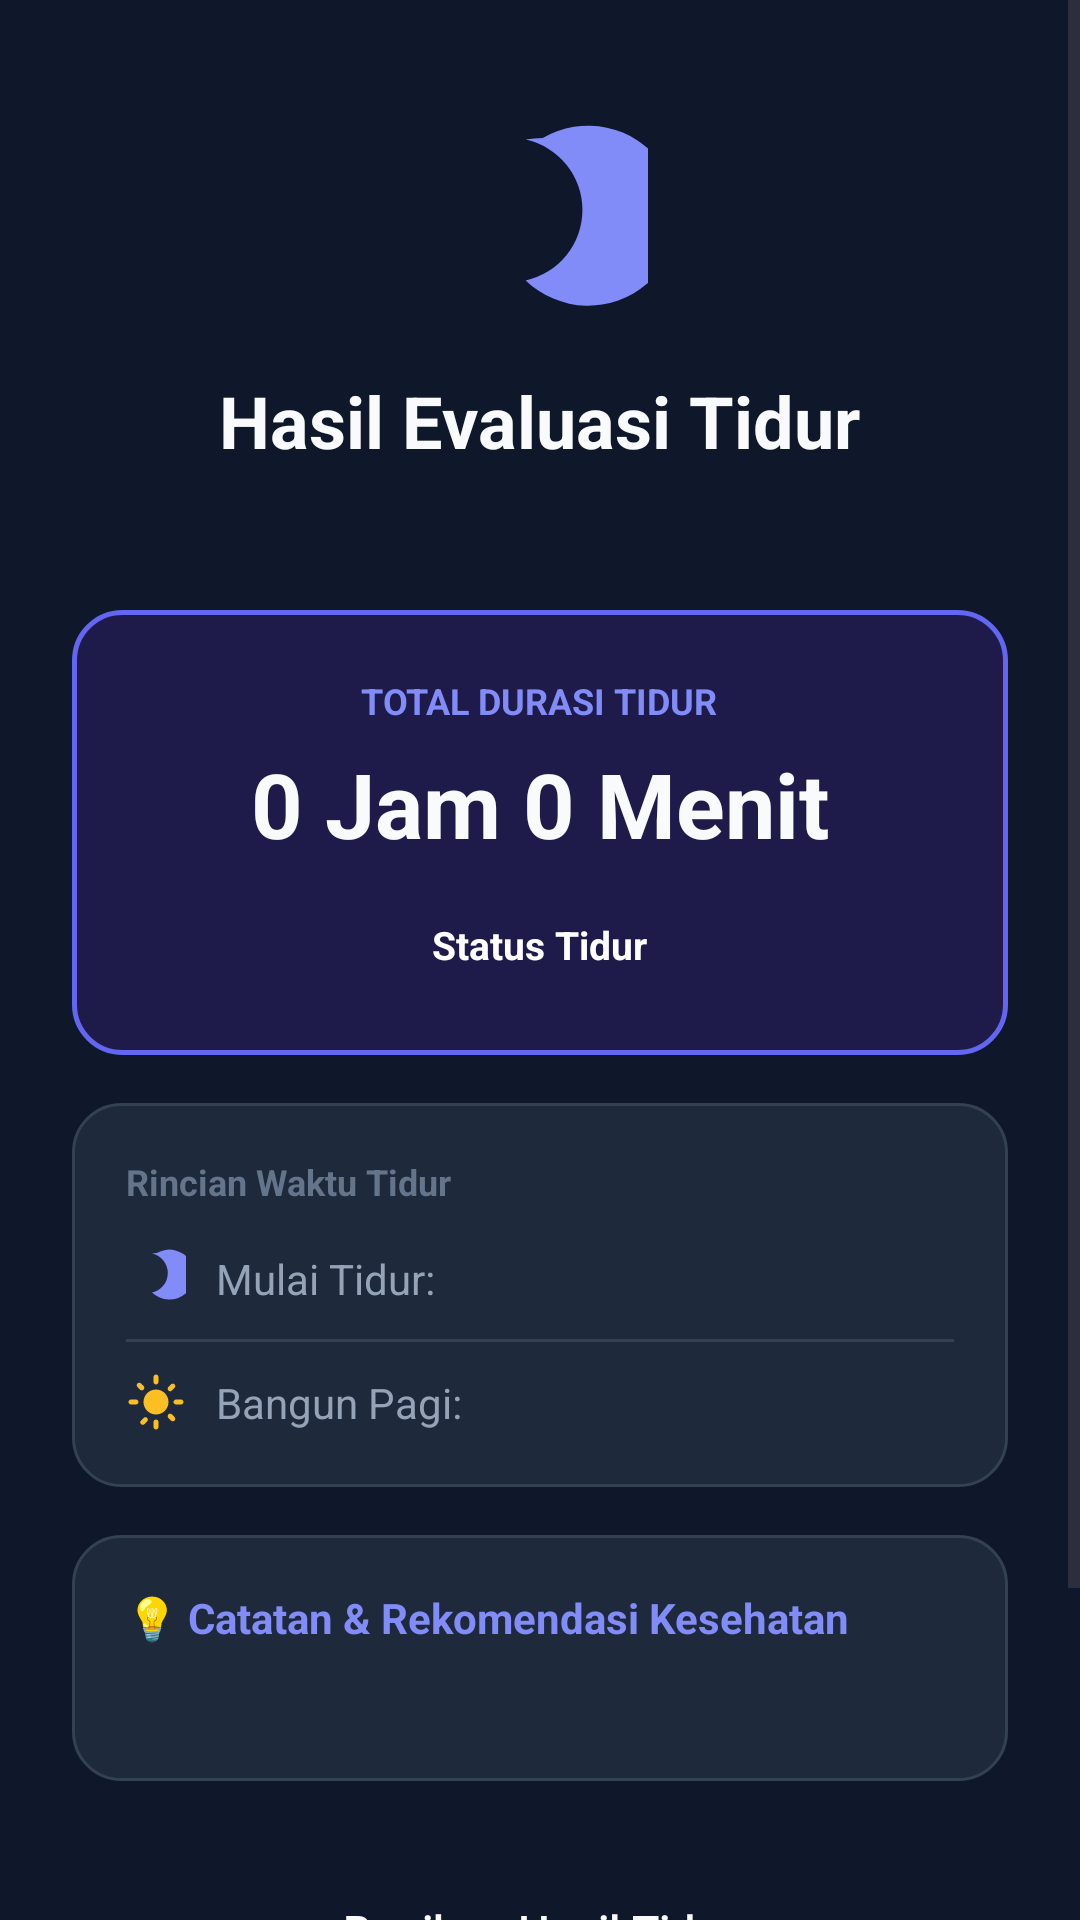

Named icons in this screenshot (1080x1920) and their bounding boxes, (x1, y1, x2, y2):
Ikon Bangun Tidur: (128, 1374, 184, 1430)
